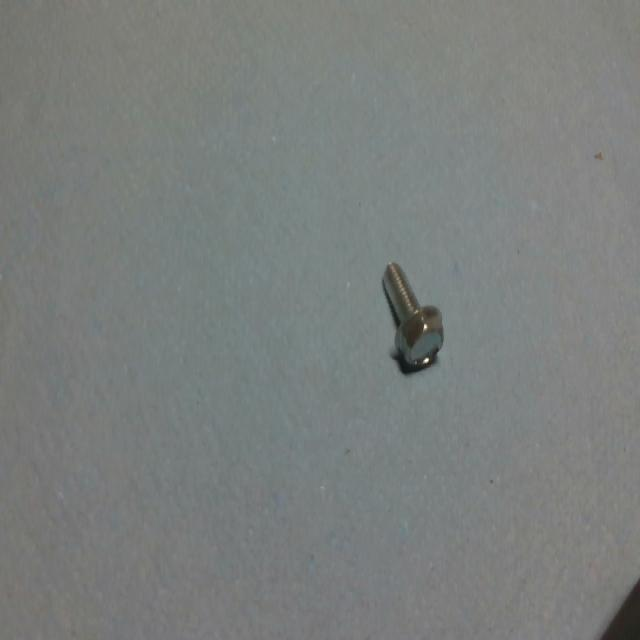Bolt: (382, 263, 443, 371)
